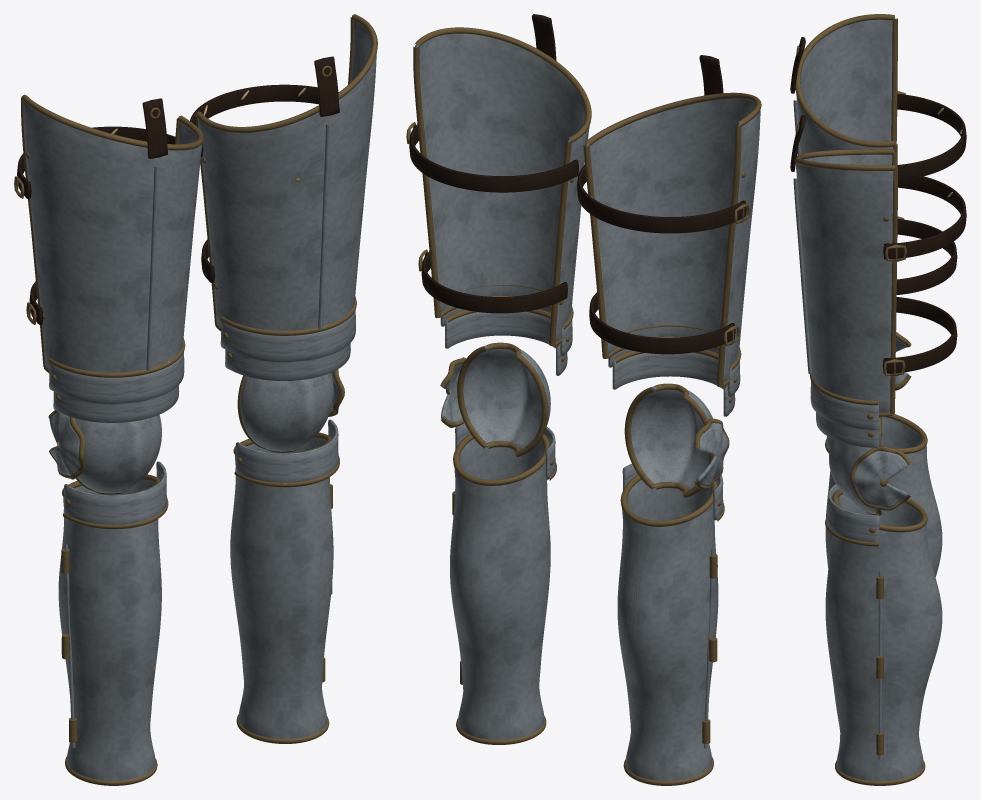
3 views of the same model, side by side, from view 1: azimuth 30°, elevation 25°; view 2: azimuth 150°, elevation 25°; view 3: azimuth 270°, elevation 25° (orthographic). The views are drawn at different scales.
Visible parts, largest first — view 1: hammered plate, aged alloy edge, oiled strap leather; view 2: hammered plate, aged alloy edge, oiled strap leather; view 3: hammered plate, aged alloy edge, oiled strap leather.
Boxes of the visible parts, box(x1,y1,x2,y2) form: hammered plate: box(23, 20, 376, 780); aged alloy edge: box(14, 14, 377, 785); oiled strap leather: box(17, 56, 339, 324); hammered plate: box(414, 33, 760, 780); aged alloy edge: box(406, 27, 761, 785); oiled strap leather: box(409, 14, 746, 354); hammered plate: box(793, 17, 942, 781); aged alloy edge: box(795, 14, 927, 785); oiled strap leather: box(790, 37, 966, 373).
Size of the model in its own units: 0.4219 by 0.8149 by 0.2001.
5 materials, 3 textured.
